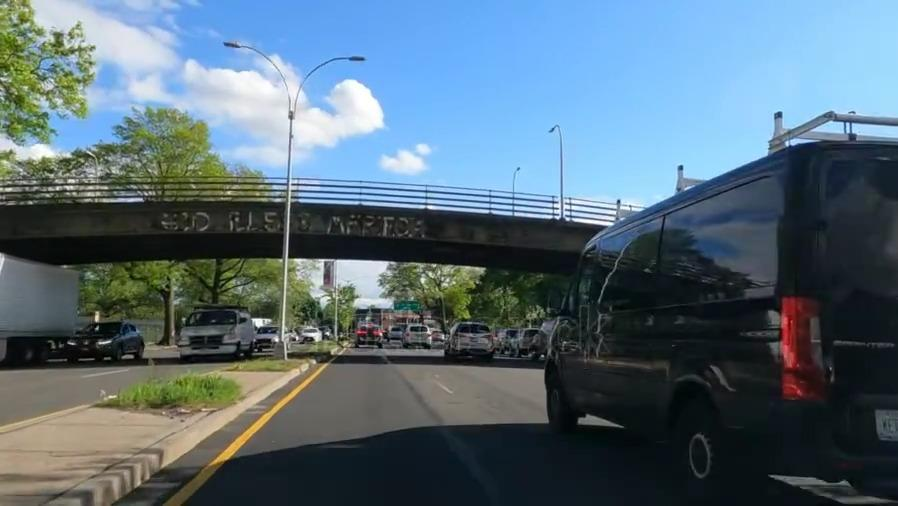car: (60, 321, 147, 363), (442, 319, 487, 356), (403, 319, 431, 351), (350, 326, 384, 351), (251, 324, 281, 352), (297, 323, 321, 345), (493, 331, 511, 355), (517, 328, 531, 358)
van: (575, 130, 894, 475), (165, 308, 252, 359)
wheel: (666, 393, 739, 498), (540, 372, 583, 434)
